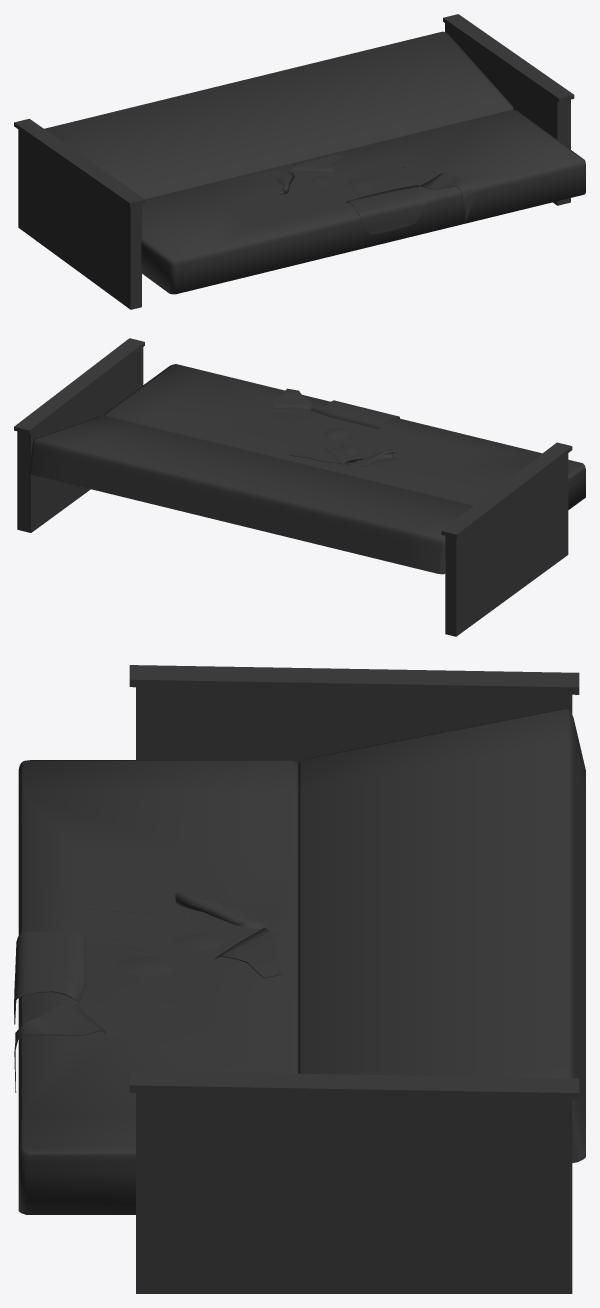
Rendered from old_sofa.fbx.
The picture shows the model from 3 angles, top to bottom: view 1: azimuth 30°, elevation 25°; view 2: azimuth 150°, elevation 25°; view 3: azimuth 270°, elevation 25°; orthographic projection. The views are drawn at different scales.
Visible parts, largest first — view 1: old_sofa; view 2: old_sofa; view 3: old_sofa.
Boxes of the visible parts, x1,y1,x2,y2 form: old_sofa: (14, 14, 585, 309); old_sofa: (14, 338, 585, 636); old_sofa: (14, 665, 585, 1293).
Size of the model in its own units: 1.98 by 0.4619 by 1.14.
